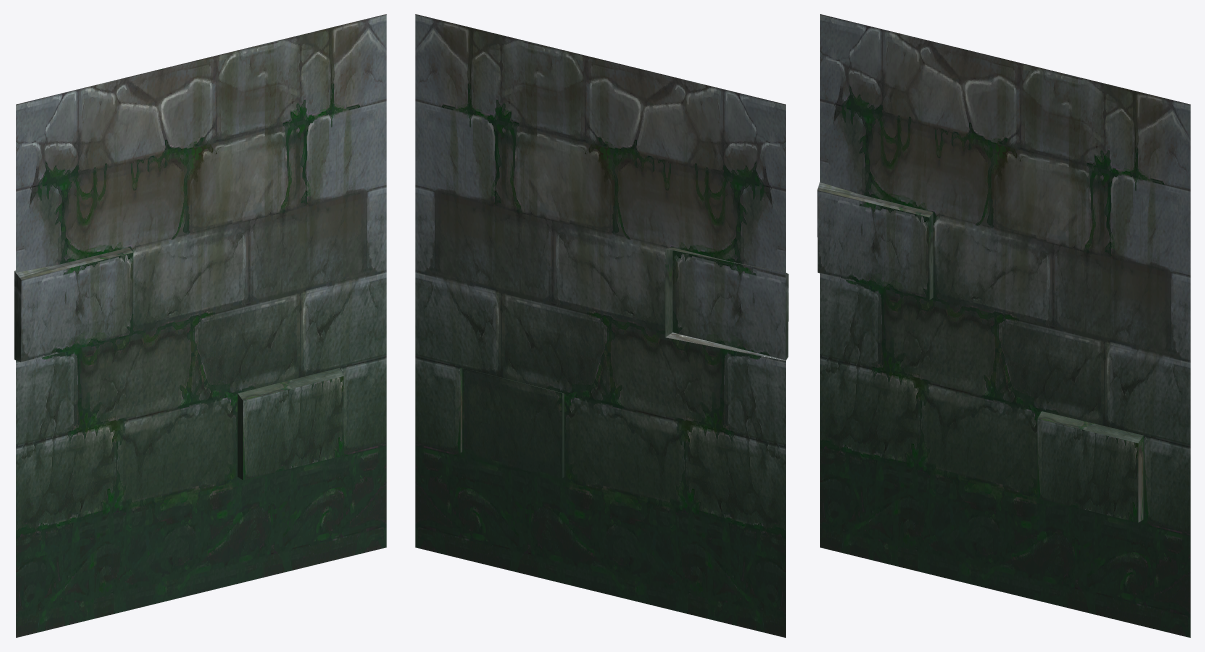
Rendered from stemple_wall_straight_06.fbx.
3 views of the same model, side by side, from view 1: azimuth 30°, elevation 25°; view 2: azimuth 150°, elevation 25°; view 3: azimuth 330°, elevation 25° (orthographic).
Visible parts, largest first — view 1: sunken_tileset/sunken_wall_straight06_mat; view 2: sunken_tileset/sunken_wall_straight06_mat; view 3: sunken_tileset/sunken_wall_straight06_mat.
Boxes of the visible parts, left/top/right/bottom form: sunken_tileset/sunken_wall_straight06_mat: left=14, top=14, right=386, bottom=637; sunken_tileset/sunken_wall_straight06_mat: left=415, top=14, right=788, bottom=637; sunken_tileset/sunken_wall_straight06_mat: left=817, top=14, right=1190, bottom=637.
Bounding box in the file's own units: 4.01 × 5.5 × 0.219.
